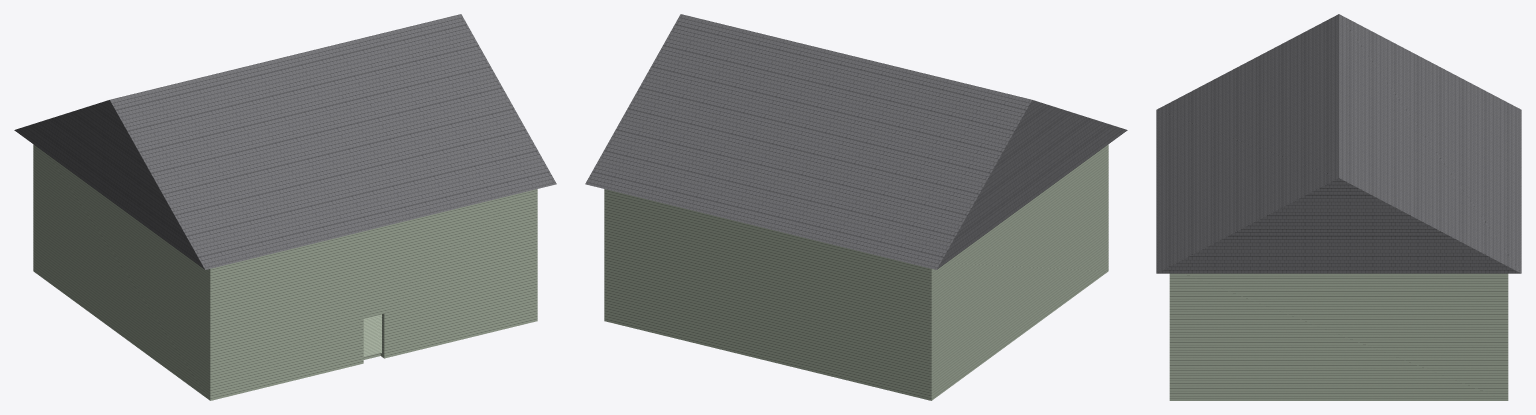
The model's file is founders_mansion.glb.
3 renders of one model, left to right at view 1: azimuth 30°, elevation 25°; view 2: azimuth 150°, elevation 25°; view 3: azimuth 270°, elevation 25°, orthographic. The views are drawn at different scales.
Visible parts, largest first — view 1: founders_mansion-col; view 2: founders_mansion-col; view 3: founders_mansion-col.
Part boxes in pixels (bbox=[...]): founders_mansion-col: bbox=[14, 14, 556, 400]; founders_mansion-col: bbox=[585, 14, 1127, 400]; founders_mansion-col: bbox=[1156, 14, 1521, 400].
Size of the model in its own units: 17.2 by 11.19 by 16.2.
Materials: 2 (2 with a texture image).
